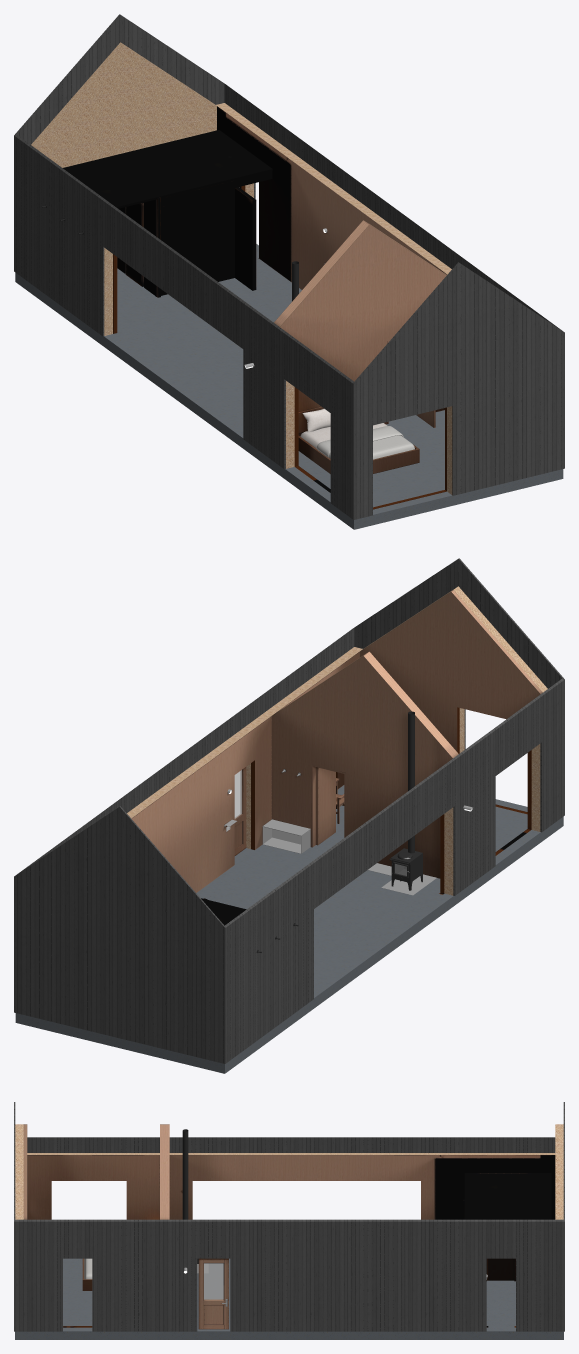
File: Base_1_Plus_Dark.glb
3 views of the same model, one above another, from view 1: azimuth 30°, elevation 25°; view 2: azimuth 150°, elevation 25°; view 3: azimuth 270°, elevation 25° (orthographic). The views are drawn at different scales.
Visible parts, largest first — view 1: Black wood _Main_Base1plus, Interior_Main_Wood_Base1plus, Concrete_Base1plus.001, Isolation_Base1plus, White Fabrics_Base1plus, White fabric_Base1plus; view 2: Black wood _Main_Base1plus, Interior_Main_Wood_Base1plus, Concrete_Base1plus.001, Isolation_Base1plus, Alumininum_Base1plus, Fireplace_Base1plus; view 3: Black wood _Main_Base1plus, Interior_Main_Wood_Base1plus, Concrete_Base1plus.001, Isolation_Base1plus, Glass_Base1plus, Fireplace_Base1plus.
Boxes of the visible parts, left/top/right/bottom form: Black wood _Main_Base1plus: left=14, top=14, right=564, bottom=519; Interior_Main_Wood_Base1plus: left=63, top=106, right=447, bottom=509; Concrete_Base1plus.001: left=15, top=244, right=563, bottom=529; Isolation_Base1plus: left=31, top=42, right=452, bottom=494; White Fabrics_Base1plus: left=316, top=426, right=414, bottom=459; White fabric_Base1plus: left=300, top=408, right=387, bottom=448; Black wood _Main_Base1plus: left=14, top=558, right=564, bottom=1063; Interior_Main_Wood_Base1plus: left=131, top=590, right=542, bottom=925; Concrete_Base1plus.001: left=15, top=785, right=563, bottom=1073; Isolation_Base1plus: left=127, top=586, right=547, bottom=895; Alumininum_Base1plus: left=224, top=769, right=473, bottom=895; Fireplace_Base1plus: left=389, top=711, right=422, bottom=890; Black wood _Main_Base1plus: left=14, top=1102, right=564, bottom=1331; Interior_Main_Wood_Base1plus: left=23, top=1124, right=555, bottom=1329; Concrete_Base1plus.001: left=15, top=1258, right=563, bottom=1339; Isolation_Base1plus: left=15, top=1124, right=563, bottom=1219; Glass_Base1plus: left=204, top=1263, right=223, bottom=1299; Fireplace_Base1plus: left=182, top=1129, right=198, bottom=1263.
Bounding box in the file's own units: 2.63 × 2.38 × 6.06.
Materials: 13 (7 with a texture image).
